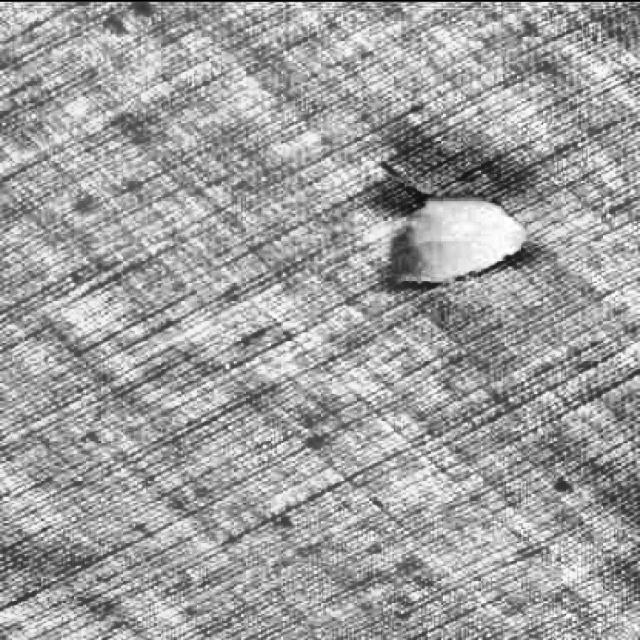objects: (379, 175, 538, 305)
